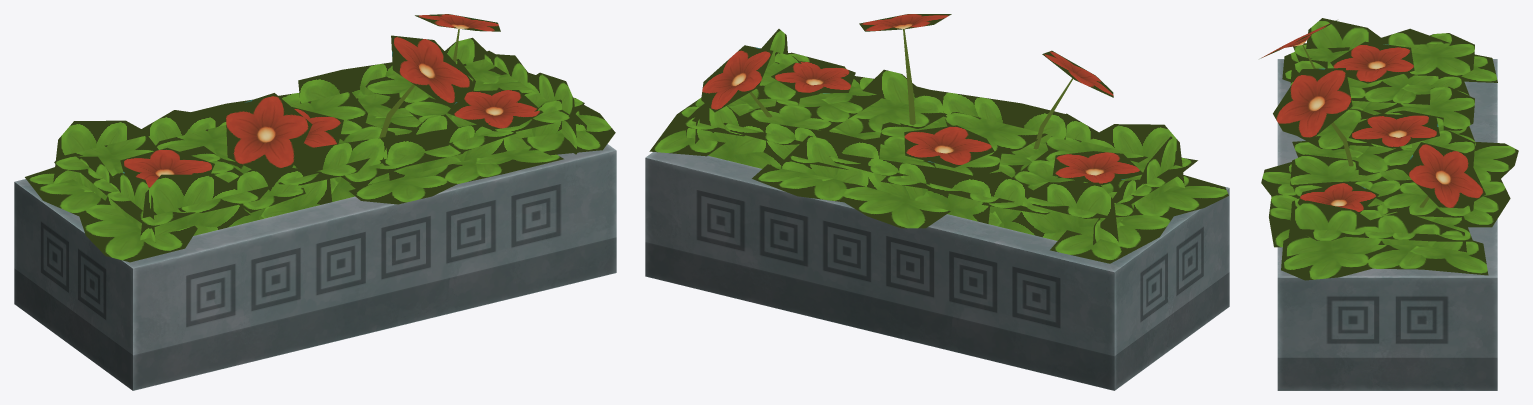
File: vase_02.fbx
3 renders of one model, left to right at view 1: azimuth 30°, elevation 25°; view 2: azimuth 150°, elevation 25°; view 3: azimuth 270°, elevation 25°, orthographic. The views are drawn at different scales.
Visible parts, largest first — view 1: vase_02, vase_02_plants; view 2: vase_02, vase_02_plants; view 3: vase_02_plants, vase_02.
Part boxes in pixels (<box>): vase_02: <box>14,144,616,390</box>; vase_02_plants: <box>25,14,615,262</box>; vase_02: <box>645,152,1229,390</box>; vase_02_plants: <box>649,14,1228,263</box>; vase_02_plants: <box>1260,18,1518,280</box>; vase_02: <box>1277,59,1497,390</box>.
Size of the model in its own units: 112 by 53.63 by 53.32.
